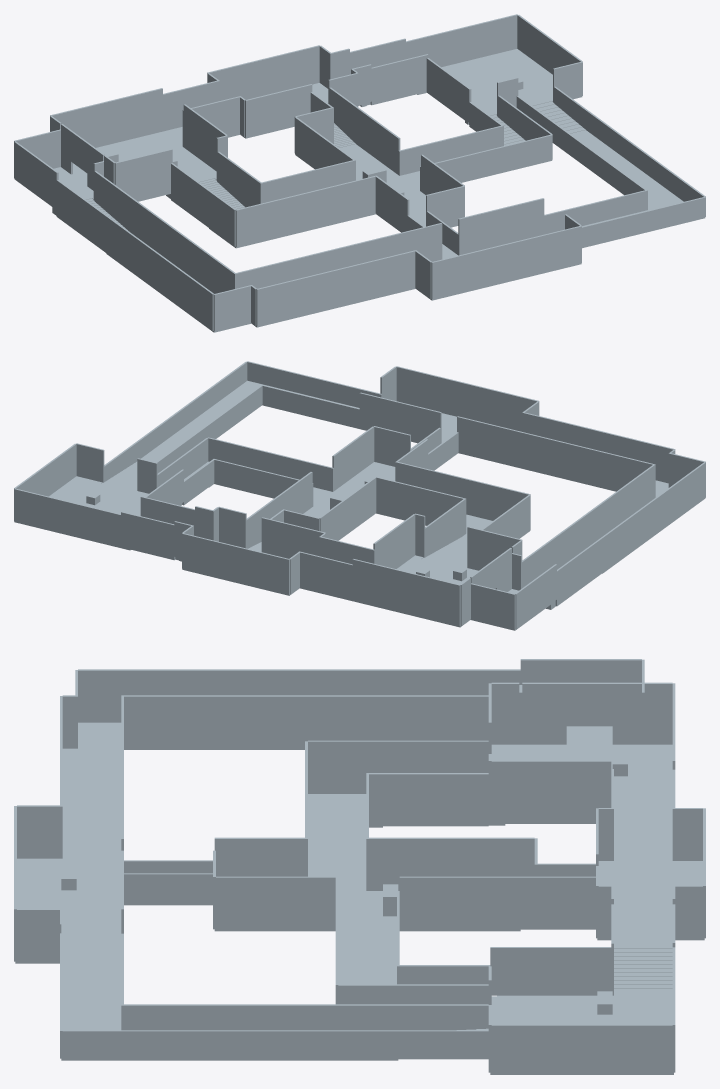
The model's file is og_kiln.collision.glb.
3 views of the same model, one above another, from view 1: azimuth 30°, elevation 25°; view 2: azimuth 150°, elevation 25°; view 3: azimuth 270°, elevation 25° (orthographic). The views are drawn at different scales.
Visible parts, largest first — view 1: wall:static:network:works/y4_5_0:default:page-1, wall:static:network:works/x1_5_0_climb_long_ramp_rest_0:defa, wall:static:network:works/y1_22_0:default:page-1, wall:static:network:works/y20_12_0:default:page-1, wall:static:network:works/y44_6_0:default:page-1, wall:static:network:works/y46_24_0:default:page-1, wall:static:network:works/y44_44_0:default:page-1, wall:static:network:works/y8_5_0:default:page-1, wall:static:network:works/y8_29_0:default:page-1, wall:static:network:works/x5_8_0_climb_long_ramp_rest_1:defa, wall:static:network:works/y22_33_0:default:page-1, wall:static:network:works/y4_38_0:default:page-1 (+46 smaller); view 2: wall:static:network:works/x1_5_0_climb_long_ramp_rest_0:defa, wall:static:network:works/y8_5_0:default:page-1, wall:static:network:works/y1_22_0:default:page-1, wall:static:network:works/y44_6_0:default:page-1, wall:static:network:works/y46_24_0:default:page-1, wall:static:network:works/y44_44_0:default:page-1, wall:static:network:works/y4_5_0:default:page-1, wall:static:network:works/y20_12_0:default:page-1, wall:static:network:works/x5_8_0_climb_long_ramp_rest_1:defa, wall:static:network:works/y22_33_0:default:page-1, wall:static:network:works/y8_29_0:default:page-1, wall:static:network:works/y24_17_0:default:page-1 (+47 smaller); view 3: wall:static:network:works/x5_8_0_climb_long_ramp_rest_0:defa, wall:static:network:works/x53_4_0_climb_tunnel_ramp_rest_0:d, wall:static:network:works/x33_26_0_climb_mid_ramp_rest_0:def, wall:static:network:works/x1_5_0_climb_long_ramp_rest_1:defa, wall:static:network:works/x56_32_0:default:page-1, floor:works:floor_works_15:floor_works_15:default:page-1, wall:static:network:works/x18_32_0:default:page-1, wall:static:network:works/x49_8_0_climb_tunnel_ramp_rest_1:d, wall:static:network:works/x27_24_0:default:page-1, floor:works:floor_works_16:floor_works_16:default:page-1, wall:static:network:works/x17_24_0_climb_short_ramp_rest_0:d, wall:static:network:works/x33_14_0:default:page-1 (+38 smaller).
Part boxes in pixels (x1,y1,x2,y2): wall:static:network:works/y4_5_0:default:page-1: (256,250,415,326); wall:static:network:works/x1_5_0_climb_long_ramp_rest_0:defa: (56,180,213,330); wall:static:network:works/y1_22_0:default:page-1: (431,225,581,299); wall:static:network:works/y20_12_0:default:page-1: (235,175,376,247); wall:static:network:works/y44_6_0:default:page-1: (50,88,162,147); wall:static:network:works/y46_24_0:default:page-1: (207,45,319,100); wall:static:network:works/y44_44_0:default:page-1: (406,14,517,67); wall:static:network:works/y8_5_0:default:page-1: (235,234,394,288); wall:static:network:works/y8_29_0:default:page-1: (459,198,544,254); wall:static:network:works/x5_8_0_climb_long_ramp_rest_1:defa: (142,206,234,293); wall:static:network:works/y22_33_0:default:page-1: (434,134,552,181); wall:static:network:works/y4_38_0:default:page-1: (582,197,705,247); wall:static:network:works/x1_5_0_climb_long_ramp_rest_0:defa: (556,462,705,606); wall:static:network:works/y8_5_0:default:page-1: (502,427,654,490); wall:static:network:works/y1_22_0:default:page-1: (396,366,539,431); wall:static:network:works/y44_6_0:default:page-1: (352,559,460,626); wall:static:network:works/y46_24_0:default:page-1: (182,533,289,594); wall:static:network:works/y44_44_0:default:page-1: (14,488,120,546); wall:static:network:works/y4_5_0:default:page-1: (523,412,675,483); wall:static:network:works/y20_12_0:default:page-1: (396,461,530,520); wall:static:network:works/x5_8_0_climb_long_ramp_rest_1:defa: (567,465,654,561); wall:static:network:works/y22_33_0:default:page-1: (208,437,332,491); wall:static:network:works/y8_29_0:default:page-1: (359,392,440,442); wall:static:network:works/y24_17_0:default:page-1: (375,476,465,524); wall:static:network:works/x5_8_0_climb_long_ramp_rest_0:defa: (124,696,488,748); wall:static:network:works/x53_4_0_climb_tunnel_ramp_rest_0:d: (62,1031,488,1059); wall:static:network:works/x33_26_0_climb_mid_ramp_rest_0:def: (399,877,595,929); wall:static:network:works/x1_5_0_climb_long_ramp_rest_1:defa: (78,670,382,722); wall:static:network:works/x56_32_0:default:page-1: (491,1024,672,1073); floor:works:floor_works_15:floor_works_15:default:page-1: (15,858,121,963); wall:static:network:works/x18_32_0:default:page-1: (491,760,611,822); wall:static:network:works/x49_8_0_climb_tunnel_ramp_rest_1:d: (124,1005,398,1030); wall:static:network:works/x27_24_0:default:page-1: (369,837,534,890); floor:works:floor_works_16:floor_works_16:default:page-1: (62,748,121,857); wall:static:network:works/x17_24_0_climb_short_ramp_rest_0:d: (369,773,488,826); wall:static:network:works/x33_14_0:default:page-1: (216,876,335,929).
Bounding box in the file's own units: 88.3 × 8.45 × 72.3.
